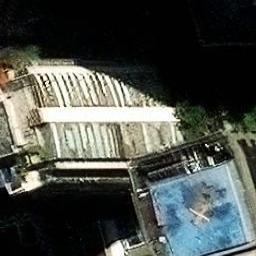heliponto: (152, 165, 252, 255)
